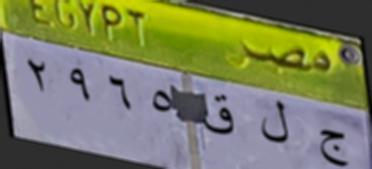2: (18, 52, 52, 104)
5: (144, 83, 176, 127)
6: (102, 76, 136, 118)
9: (64, 65, 97, 110)
jeem: (310, 126, 354, 169)
laam: (259, 95, 294, 155)
qaaf: (200, 94, 239, 146)
